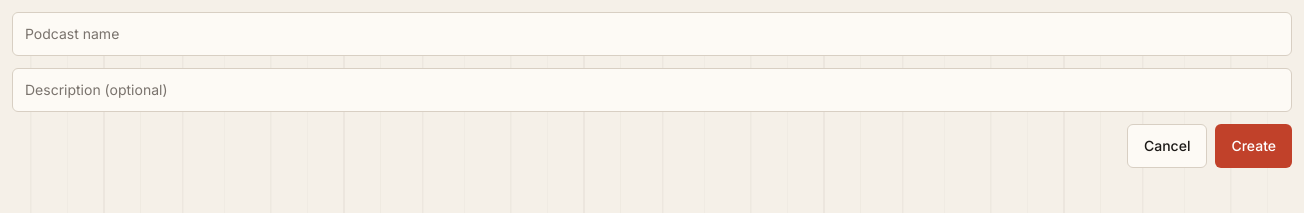
Scenario: PodcastCreateForm › shows fallback error when response has no error field
Type "Test" into the field with placeholder "Podcast name". click: (652, 34)
box: [12,12,1292,56]
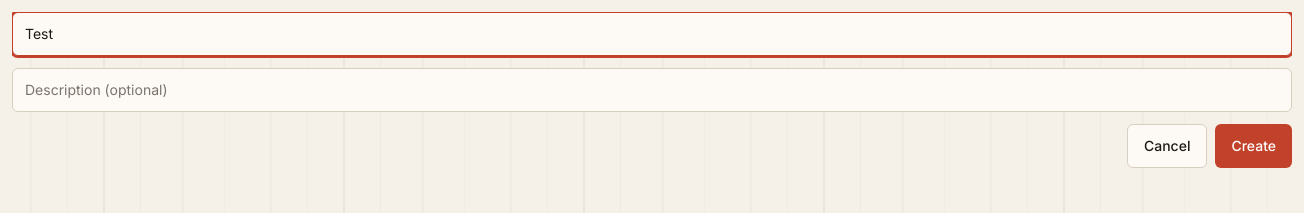
Click the button "Create". click: (1254, 146)
box: [1215,124,1292,168]
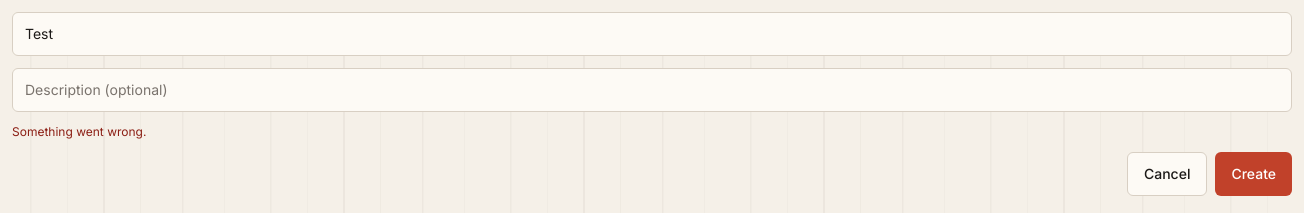
Result: the text "Something went wrong." is shown at [12,124,146,139]
